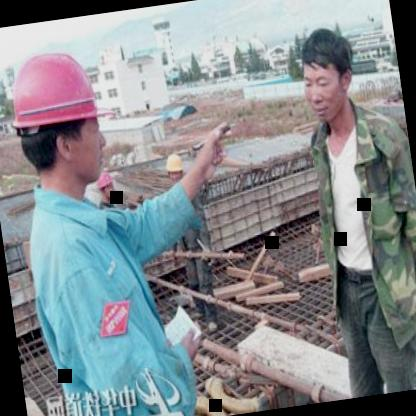helmet: (5, 47, 113, 200), (160, 150, 188, 190), (96, 169, 118, 203)
